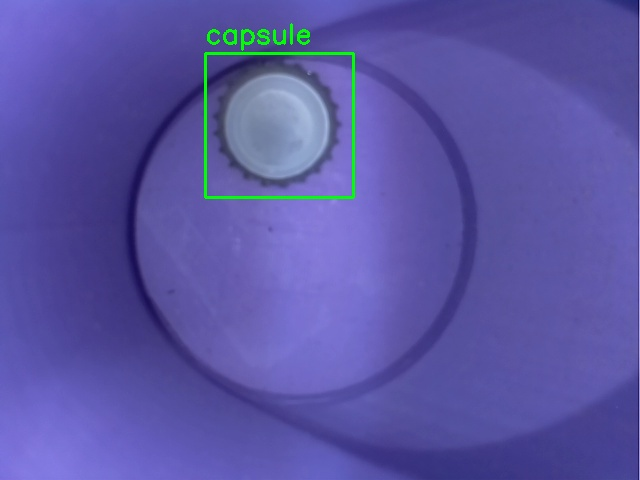capsule: (205, 53, 353, 197)
